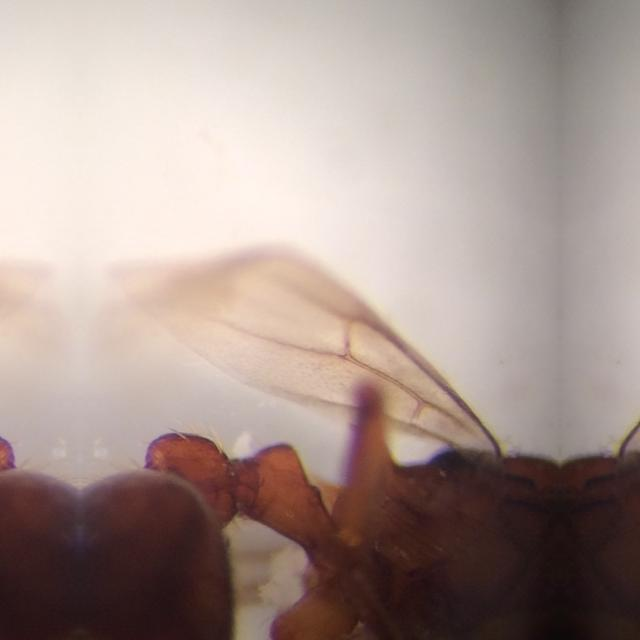Myrmica: (80, 206, 560, 640)
